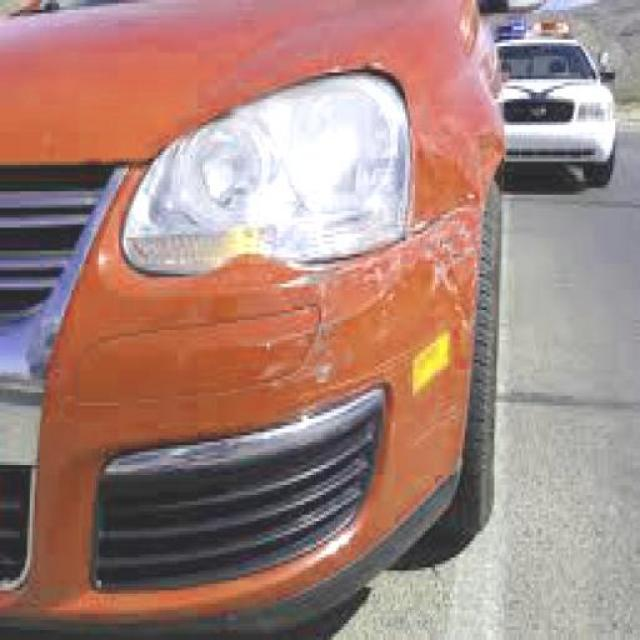Car-Damage: (234, 54, 505, 398)
